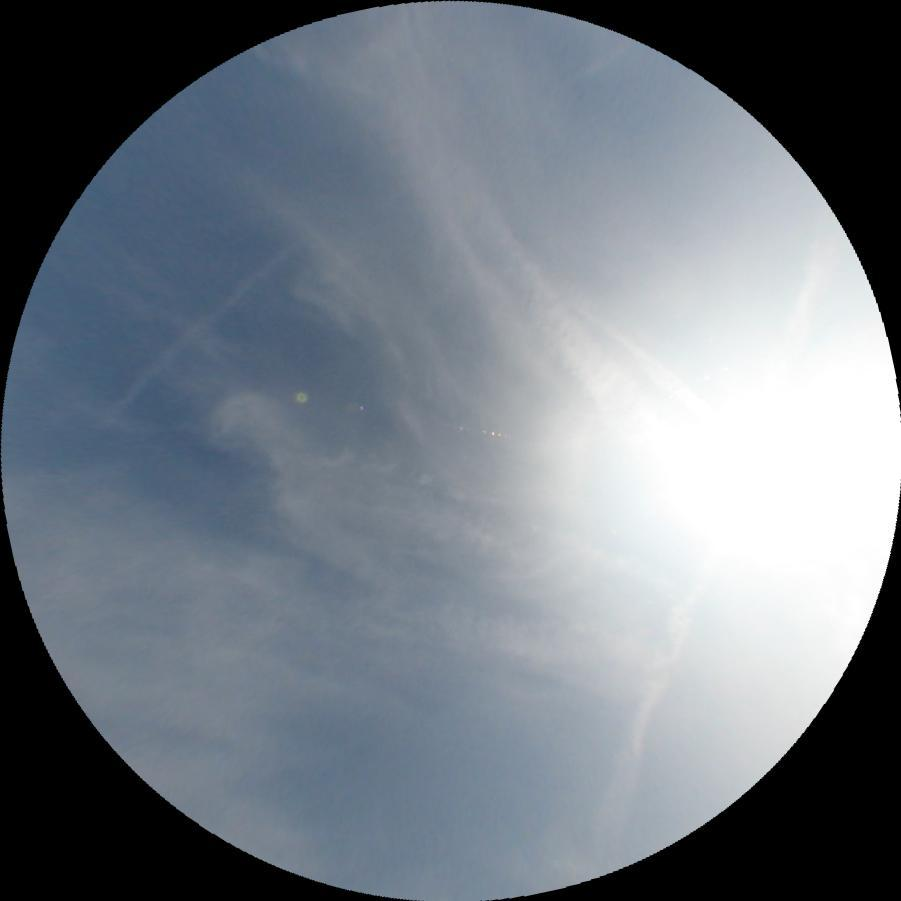contrail veryold: (581, 206, 856, 869), (465, 191, 679, 469), (91, 240, 296, 428), (531, 257, 713, 420)
sun: (668, 384, 901, 581)
